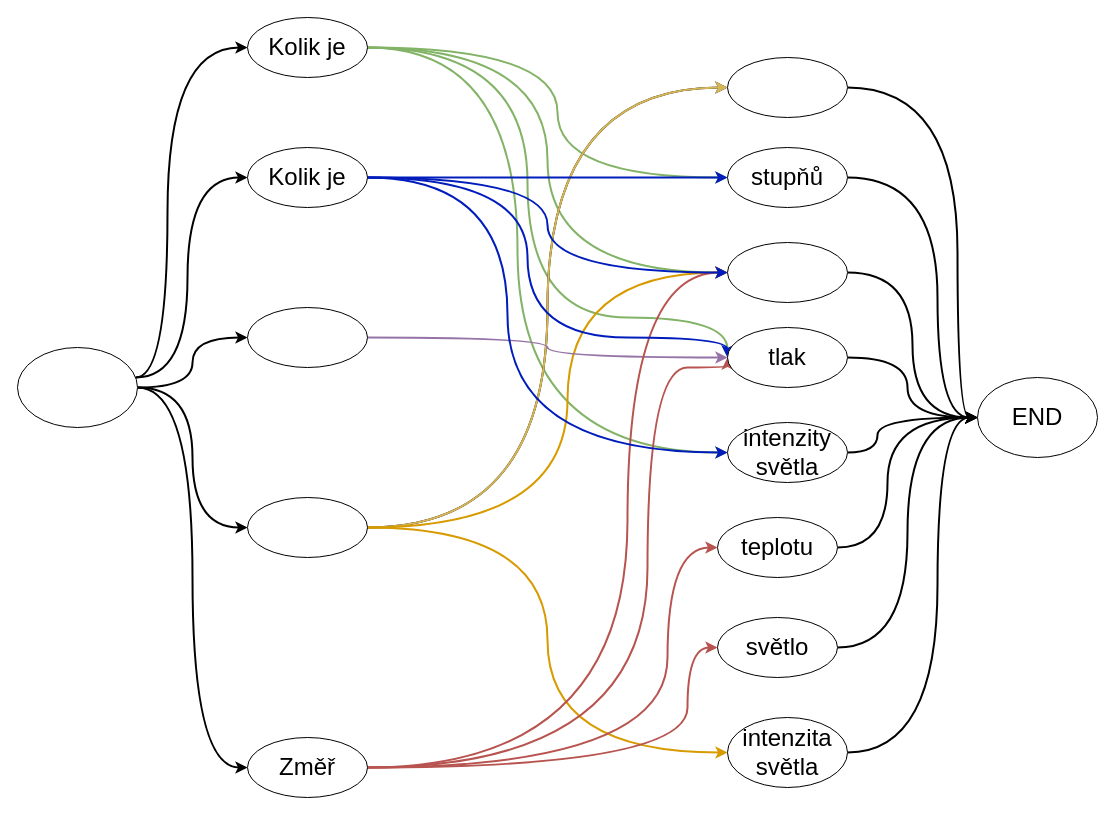
This 1115x815 diagram has some shape labels left out. Each missing label, with the centre of its shape:
"Jaká je" goes at point (307, 527).
"Jaký je" goes at point (307, 337).
"START" goes at point (77, 387).
"teplota" goes at point (787, 87).
"vlhkost" goes at point (787, 272).
